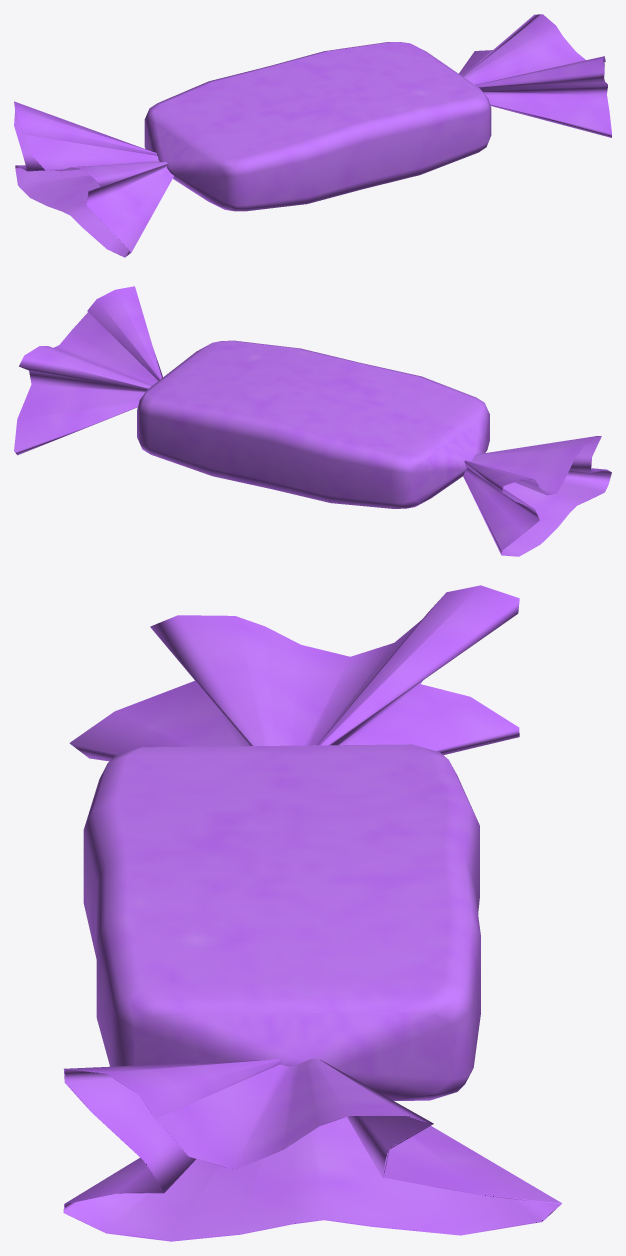
The model's file is PERMEN B.fbx.
3 views of the same model, one above another, from view 1: azimuth 30°, elevation 25°; view 2: azimuth 150°, elevation 25°; view 3: azimuth 270°, elevation 25° (orthographic). The views are drawn at different scales.
Parts seen in each view (by area): view 1: Diorama.019; view 2: Diorama.019; view 3: Diorama.019.
Boxes of the visible parts, x1,y1,x2,y2 form: Diorama.019: [14, 14, 611, 257]; Diorama.019: [14, 286, 611, 556]; Diorama.019: [63, 585, 561, 1241].
Bounding box in the file's own units: 190 × 78.5 × 28.9.
Materials: 1 (1 with a texture image).
